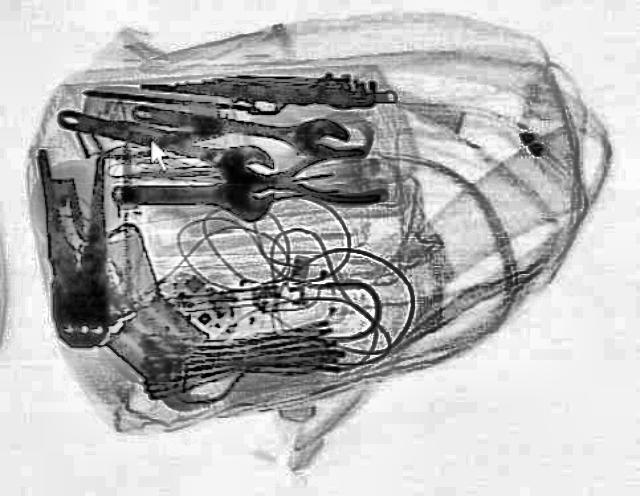Pliers: (28, 143, 124, 347), (244, 147, 378, 203)
Wrench: (47, 92, 281, 190), (126, 87, 352, 159), (106, 168, 272, 220)
